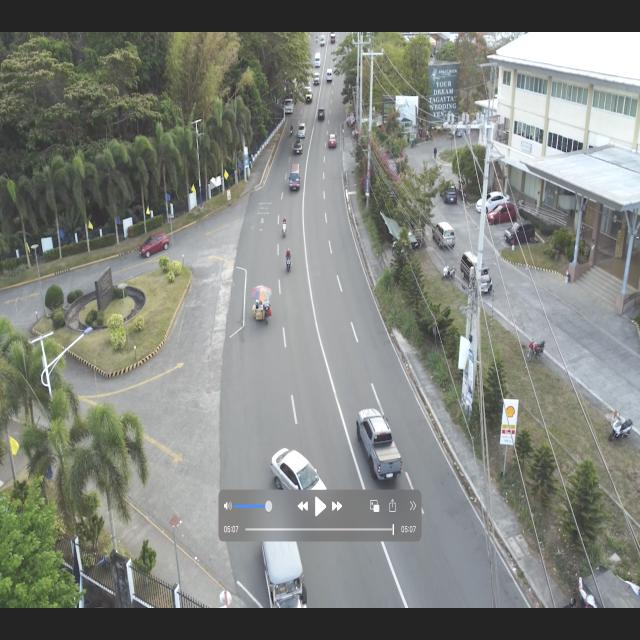bicycle: (515, 197, 526, 210)
car: (356, 406, 404, 484), (460, 249, 493, 295), (503, 220, 536, 246), (475, 191, 511, 214), (139, 232, 170, 258), (487, 202, 518, 226), (431, 220, 456, 249), (288, 163, 301, 192), (297, 122, 307, 139), (294, 139, 303, 155), (328, 133, 337, 149), (304, 89, 314, 102), (312, 72, 320, 87), (318, 106, 326, 120), (314, 51, 320, 68), (327, 66, 332, 82), (320, 34, 326, 46)
motorcycle: (607, 412, 633, 444), (523, 338, 547, 362), (440, 260, 457, 281), (284, 248, 293, 273), (282, 216, 287, 238), (290, 123, 294, 136)
truck: (283, 95, 294, 115)
